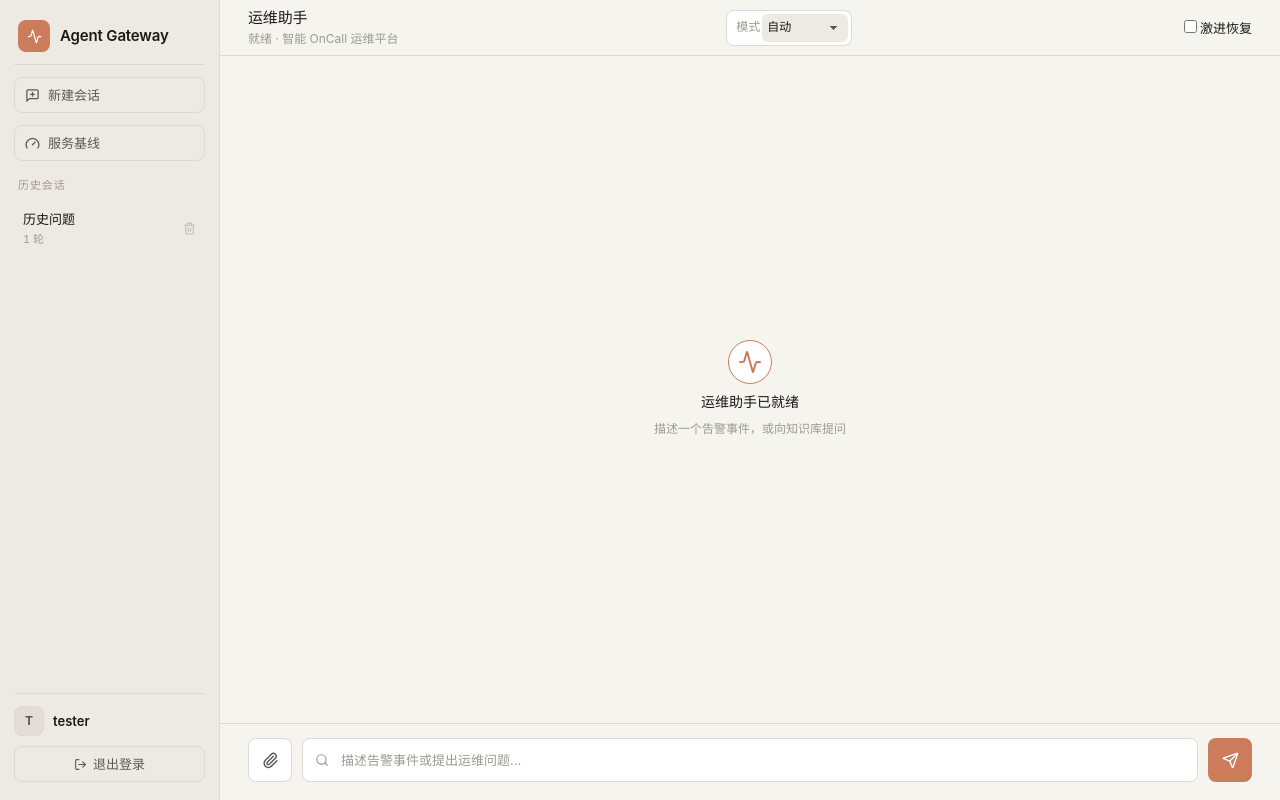
it: multi-turn conversation UI › lists past conversations and restores one when clicked
The width and height of the screenshot is (1280, 800).
Click the button titled "历史问题". click: (92,229)
box: [15, 201, 170, 256]
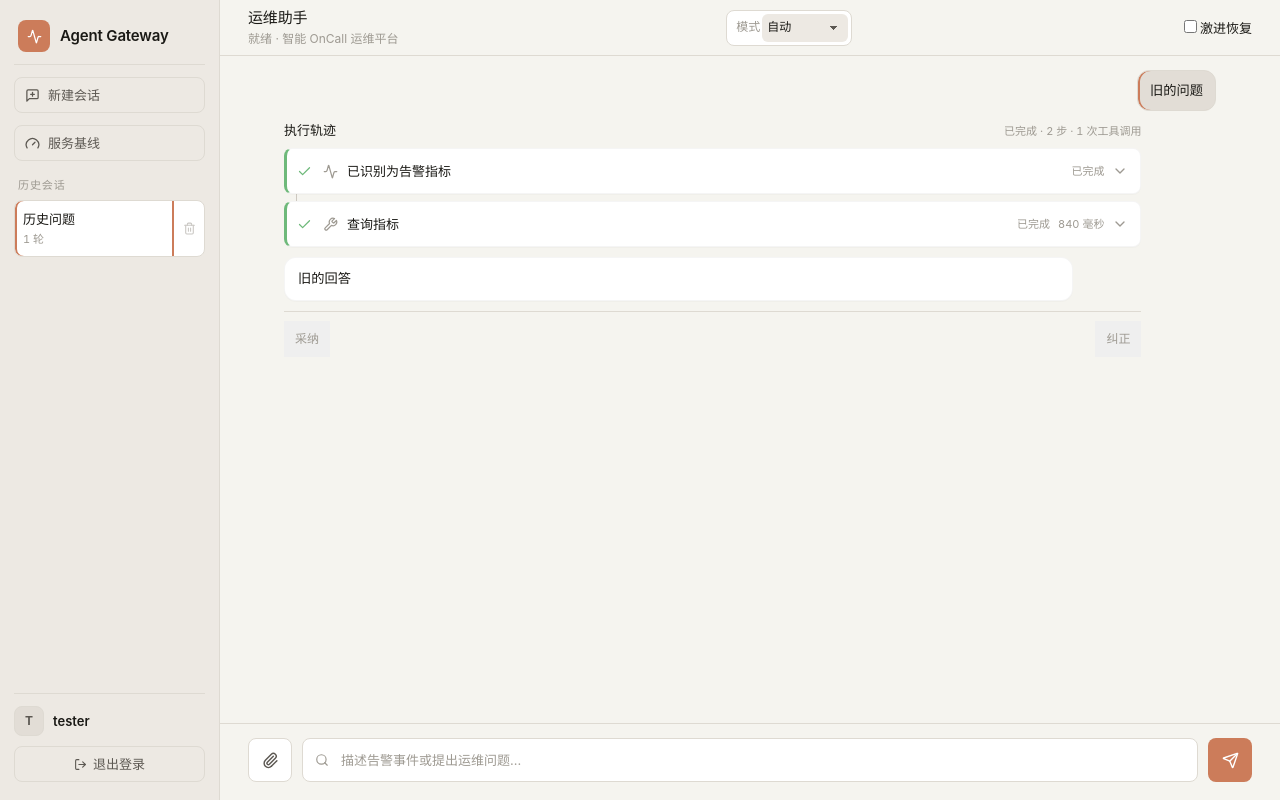
Now the text "旧的问题" is shown, box [1137, 70, 1216, 111]
Now the text "旧的回答" is shown, box [298, 270, 351, 286]
Now the heading "执行轨迹" is shown, box [284, 121, 336, 140]
